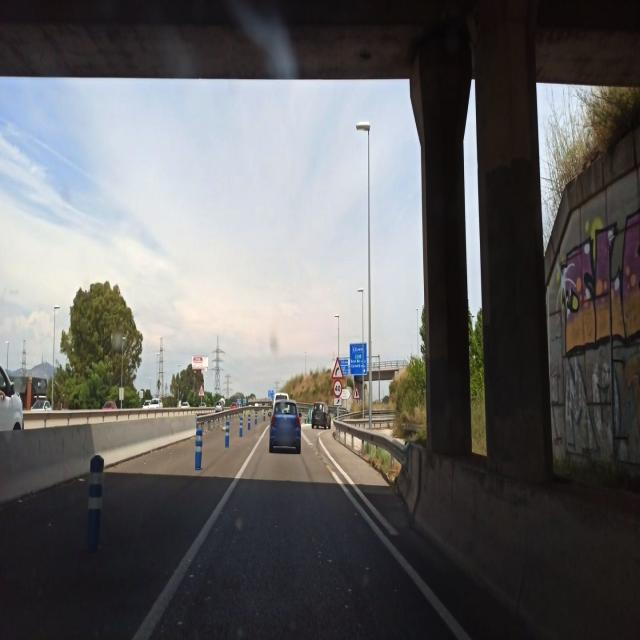car: (268, 399, 302, 455), (0, 356, 24, 435), (310, 401, 330, 430), (30, 398, 52, 412), (143, 397, 163, 408), (101, 398, 118, 410)
